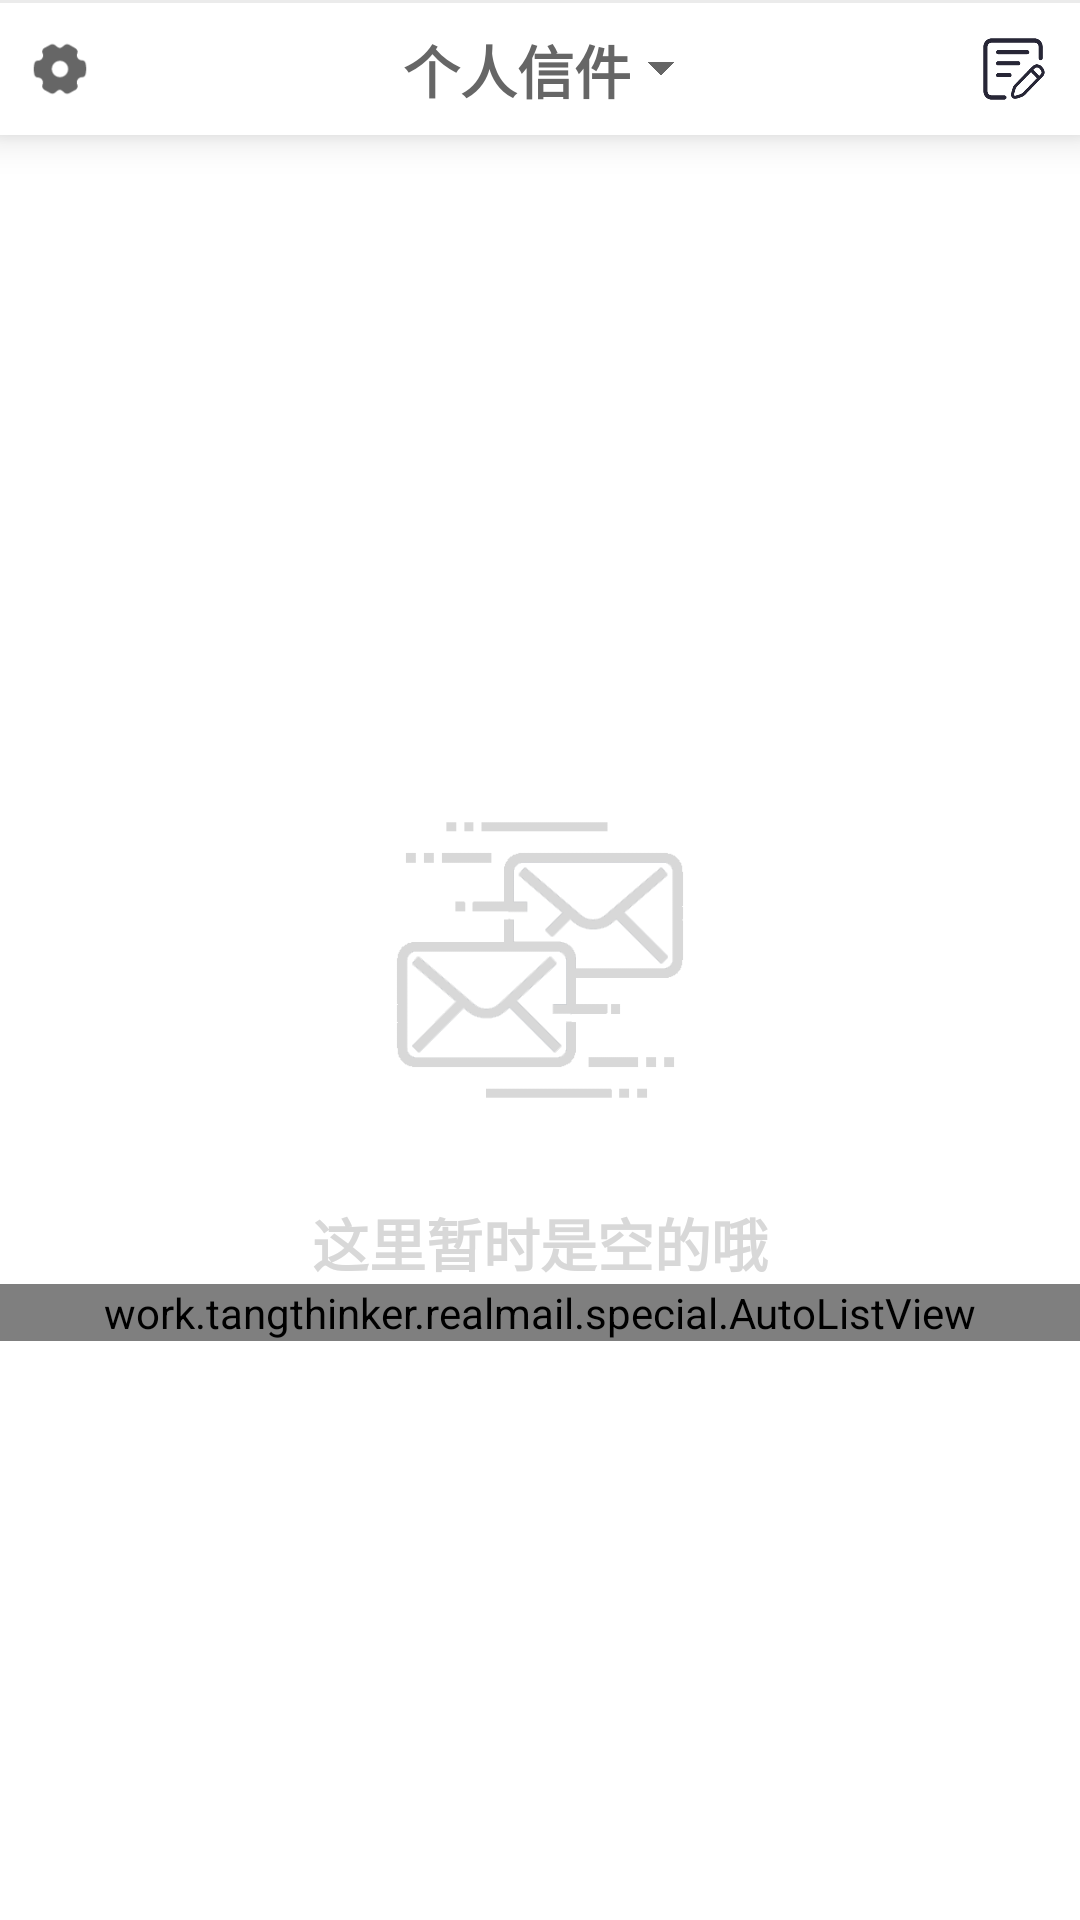

Icons on this 1080x1920 Android screen, each with the point to tap as [x,y]:
index empty: [540,960]
